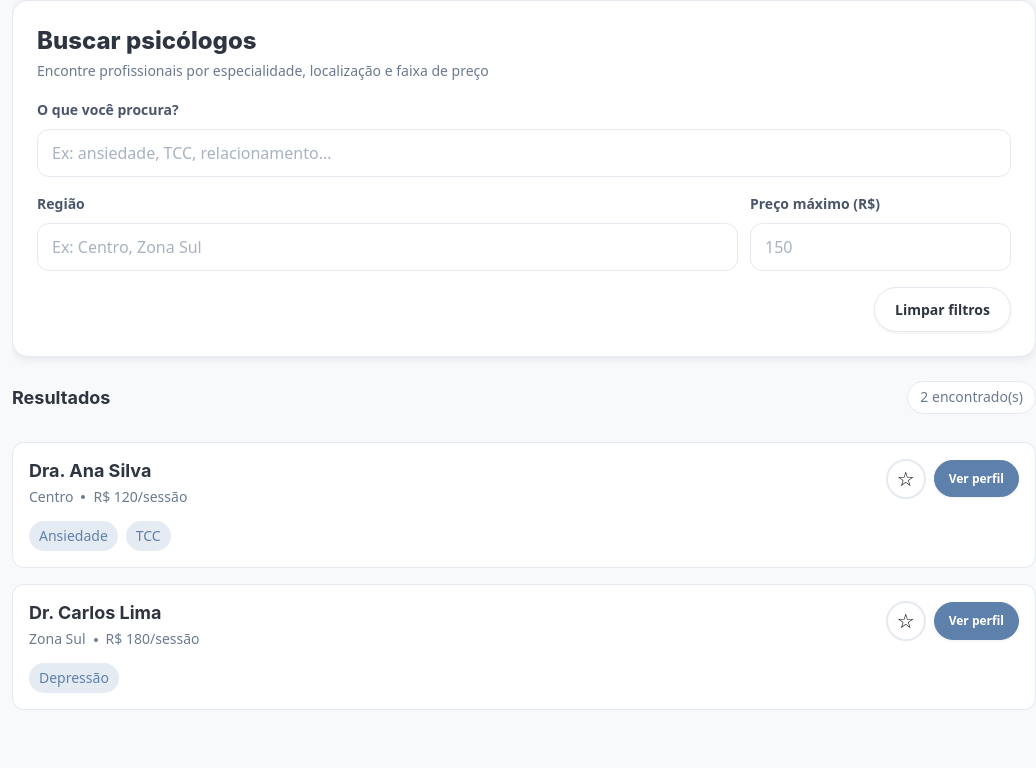
Test: SearchPage › deve filtrar profissionais por nome/especialidade
Expected: the heading "Dra. Ana Silva" is shown, [29,460,151,481]
// Digita no campo de busca
In the field labelled "O que você procura?": coordinates (524, 153) [37,129,1011,177], type "ansiedade"
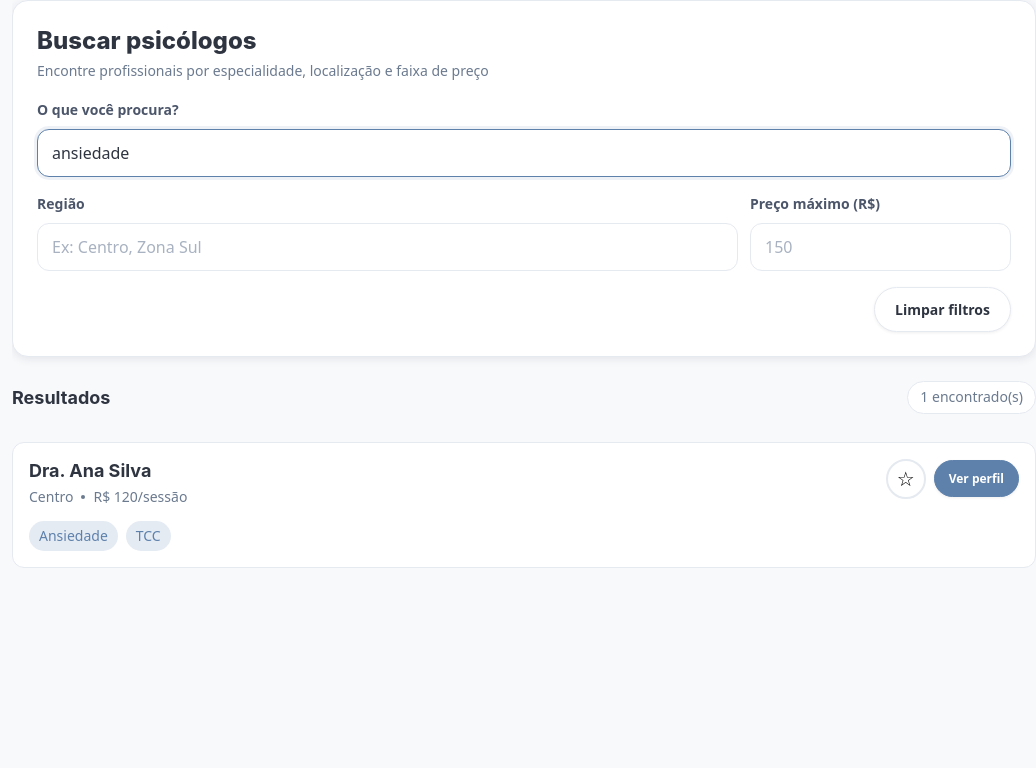
Expected: the heading "Dra. Ana Silva" is shown, [29,460,151,481]
Expected: the heading "Dr. Carlos Lima" is gone
